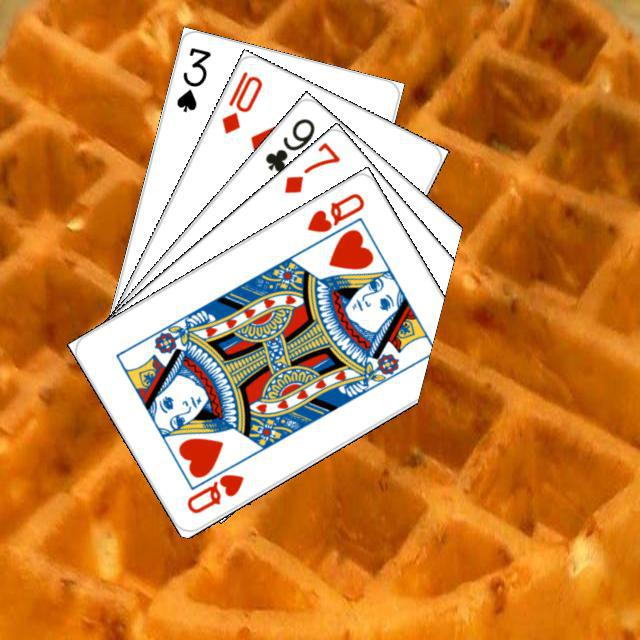10d: (216, 66, 265, 136)
3s: (171, 42, 213, 114)
7d: (279, 138, 342, 196)
9c: (260, 113, 317, 174)
Qh: (181, 454, 246, 516), (302, 188, 366, 235)
